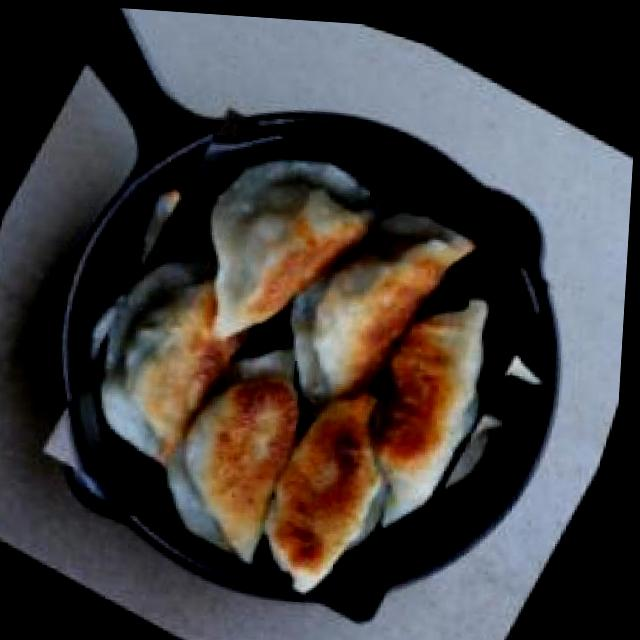fried_dumplings: (21, 81, 586, 640)
